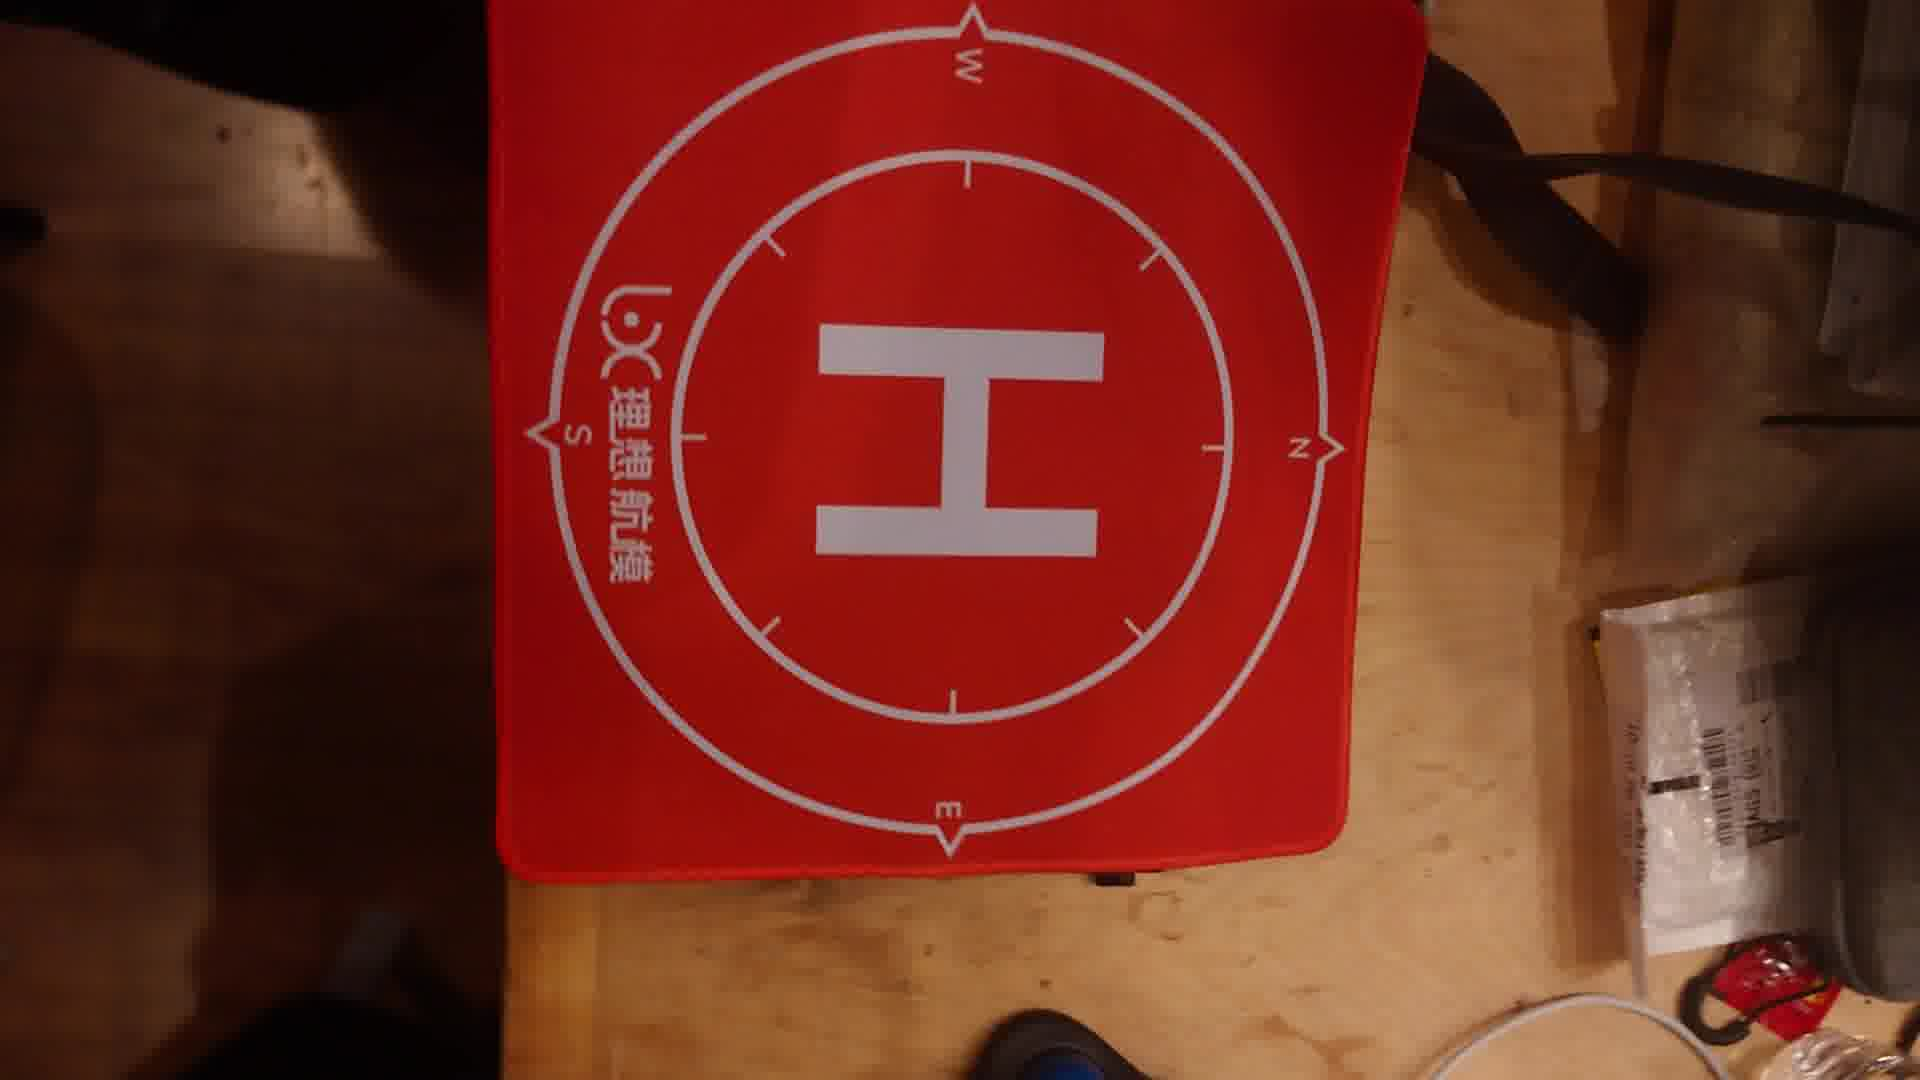H: (814, 326, 1106, 563)
